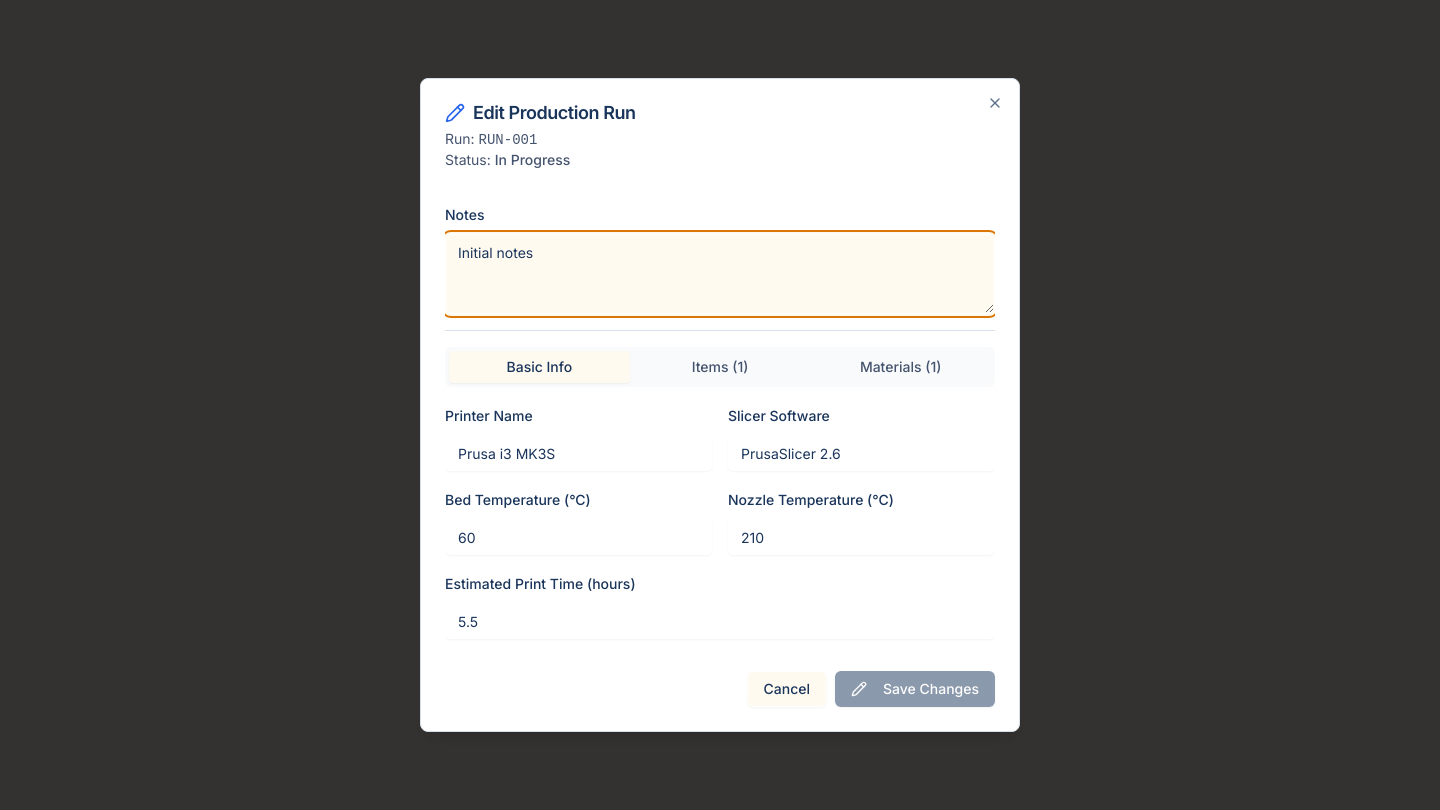
Test: EditRunDialog › Form Initialization › should initialize materials with correct weights
Step 1. Click the tab "Materials (1)" → coordinates (901, 367), box [810,351,991,383]
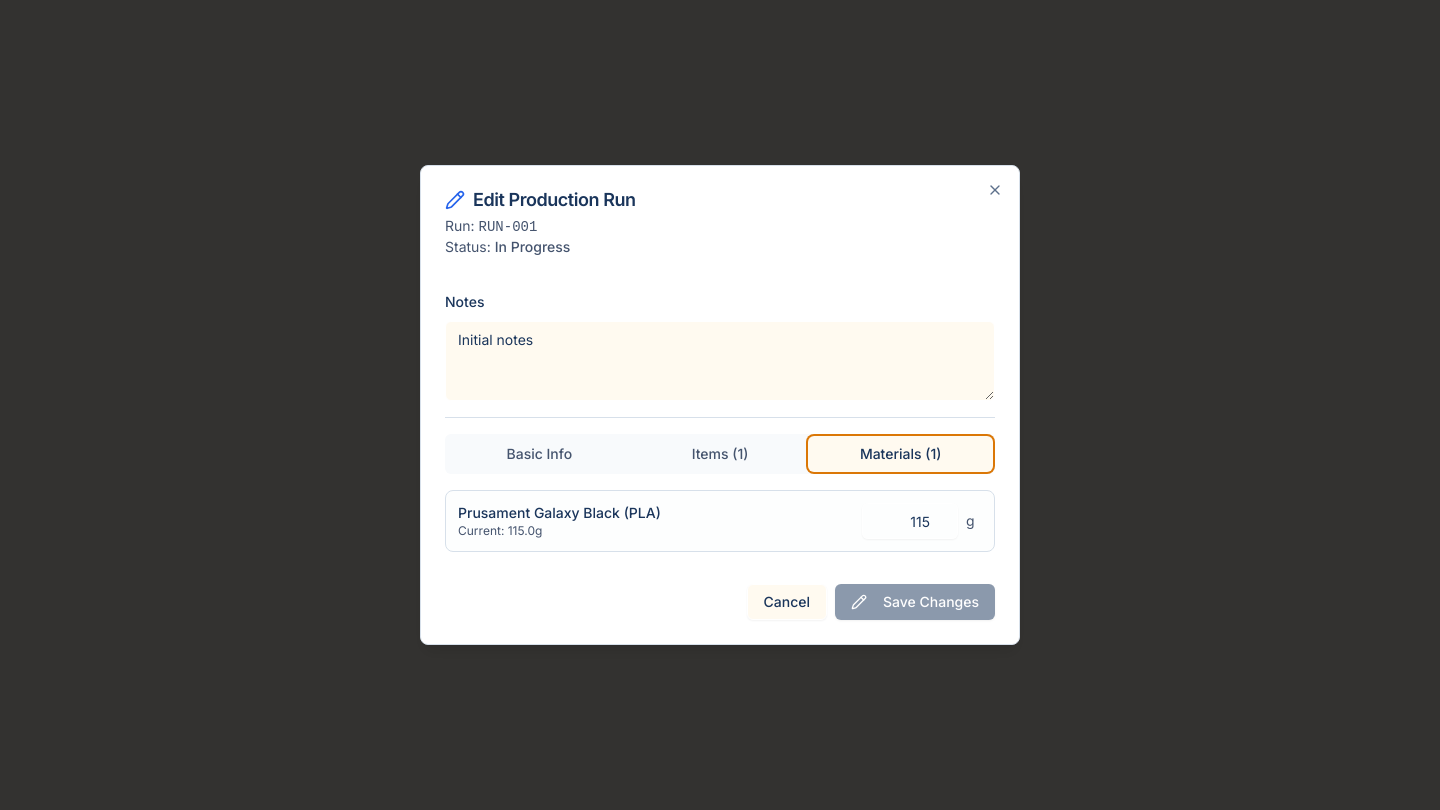
Result: the text "Prusament Galaxy Black (PLA)" is shown at [458,504,661,521]
Result: the text "Current: 115.0g" is shown at [458,523,542,538]
Result: the number field holds "115" at [862,503,958,539]
